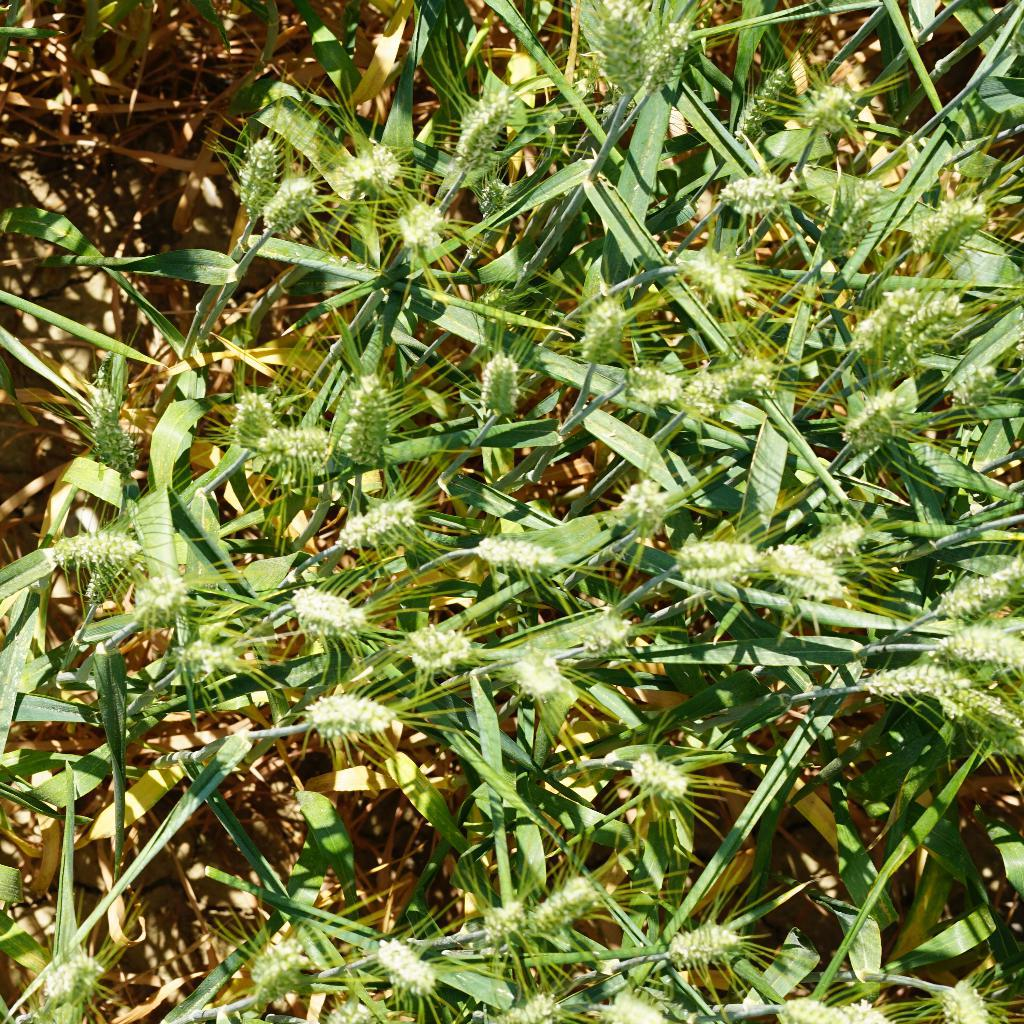0-0: (746, 529, 857, 611), (703, 40, 789, 145), (26, 504, 149, 576), (320, 357, 393, 477), (926, 670, 1021, 761), (73, 384, 150, 494), (908, 559, 1024, 627), (914, 608, 1024, 678), (893, 182, 987, 262), (298, 681, 413, 746), (236, 923, 318, 1012), (811, 168, 884, 266), (286, 572, 380, 646), (449, 514, 552, 578), (444, 88, 519, 175), (888, 286, 968, 367), (586, 0, 651, 97), (841, 388, 920, 466), (683, 355, 772, 422), (589, 348, 679, 413), (666, 535, 762, 595), (322, 482, 421, 539), (568, 286, 630, 377), (223, 126, 279, 225), (666, 249, 758, 309), (215, 365, 275, 455), (464, 343, 526, 430), (660, 916, 752, 974), (526, 871, 605, 938), (38, 940, 114, 1009), (706, 167, 799, 223), (159, 630, 251, 686), (496, 647, 590, 701), (397, 615, 475, 680), (643, 10, 701, 97), (857, 652, 954, 704), (261, 411, 335, 479), (844, 287, 911, 357), (787, 74, 859, 139), (376, 185, 443, 253), (366, 930, 437, 994), (622, 748, 700, 805), (467, 983, 568, 1024), (799, 508, 875, 562), (581, 602, 645, 663), (621, 478, 680, 541), (944, 967, 1009, 1024), (590, 984, 680, 1024), (257, 169, 314, 230), (479, 886, 533, 948), (466, 165, 526, 220), (134, 561, 186, 624), (948, 354, 998, 418), (343, 141, 406, 191), (780, 989, 859, 1024), (592, 86, 650, 133), (92, 335, 132, 395), (464, 281, 525, 320), (85, 551, 124, 610)
